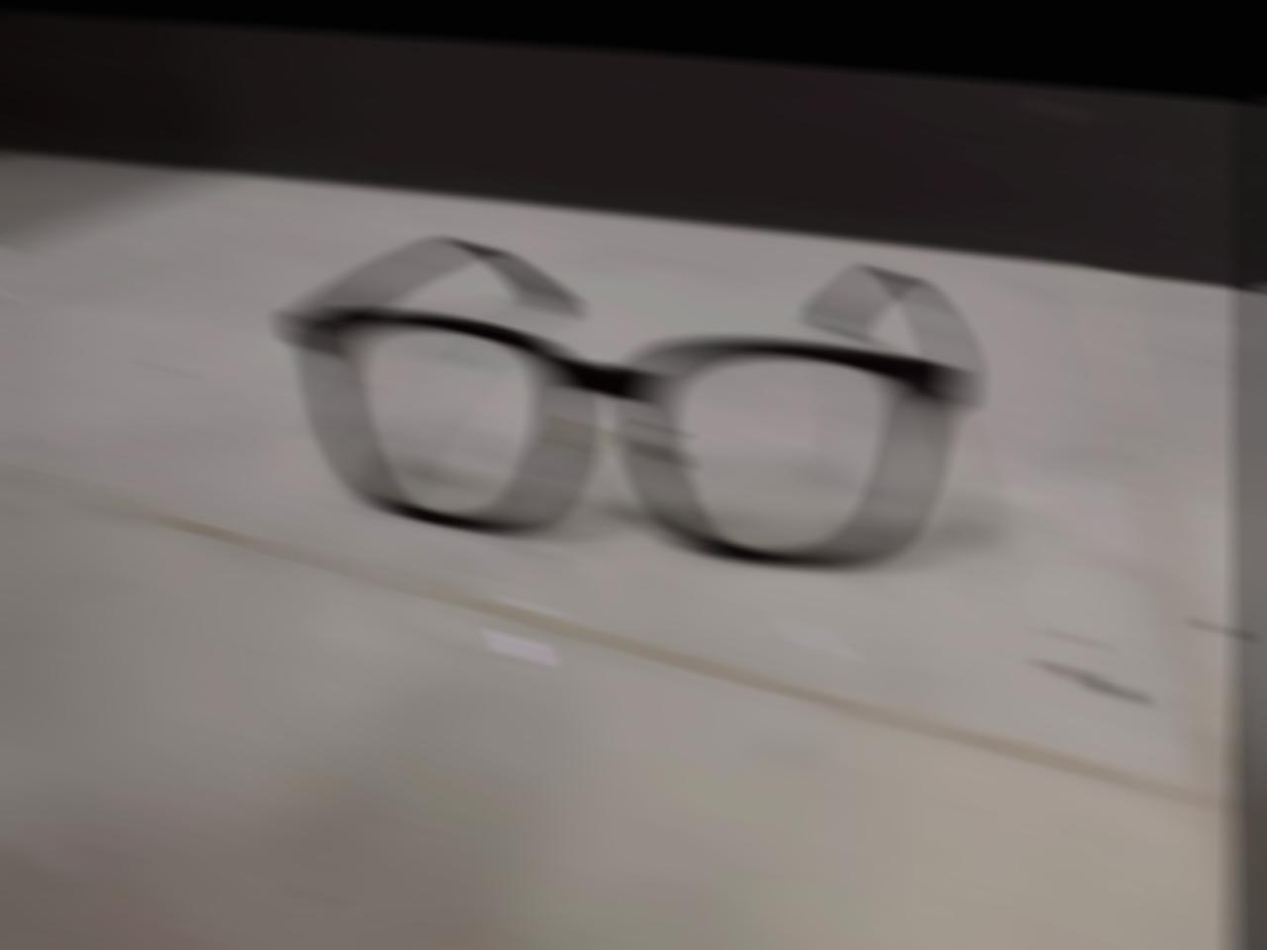glasses: (273, 198, 984, 606)
